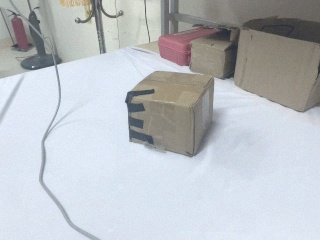box: (237, 16, 320, 113), (126, 69, 216, 156), (159, 18, 220, 66), (189, 26, 238, 79)
